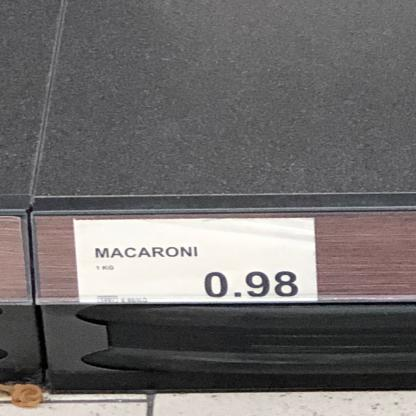prtg: (76, 219, 318, 303)
